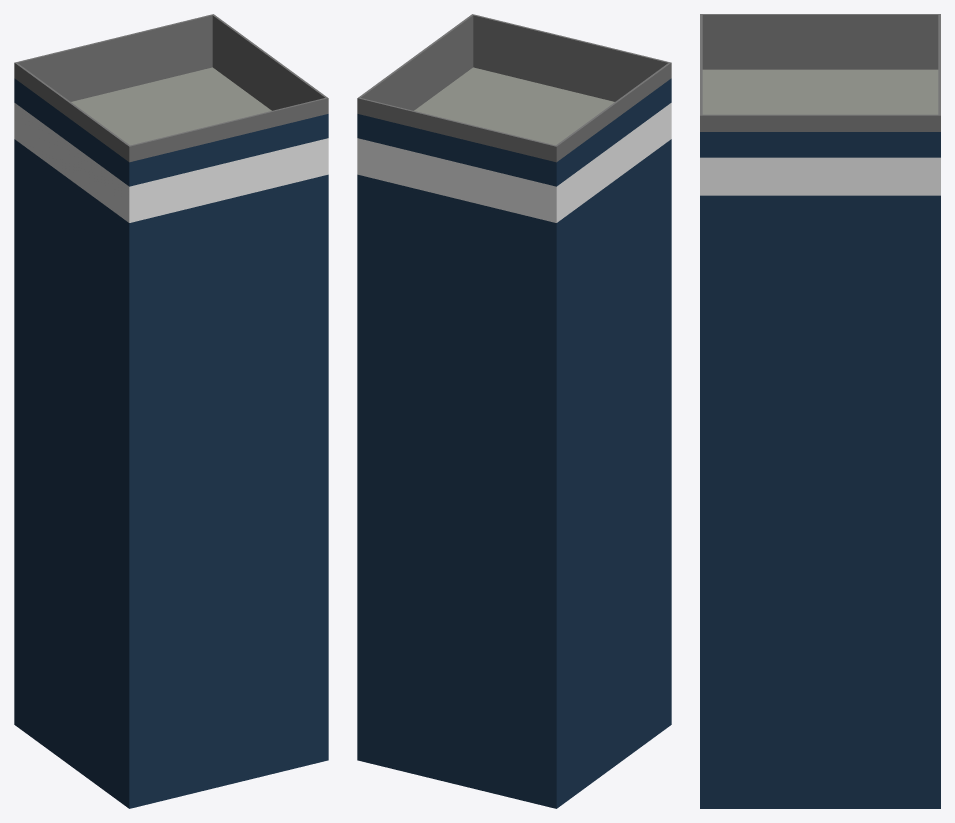
File: far.fbx
The picture shows the model from 3 angles, left to right: view 1: azimuth 30°, elevation 25°; view 2: azimuth 150°, elevation 25°; view 3: azimuth 270°, elevation 25°; orthographic projection. The views are drawn at different scales.
Parts seen in each view (by area): view 1: a2012/0/far; view 2: a2012/0/far; view 3: a2012/0/far.
Boxes of the visible parts, box(x1,y1,x2,y2) form: a2012/0/far: box(14, 14, 328, 808); a2012/0/far: box(357, 14, 671, 808); a2012/0/far: box(700, 14, 940, 808).
Size of the model in its own units: 30 by 95.29 by 30.
